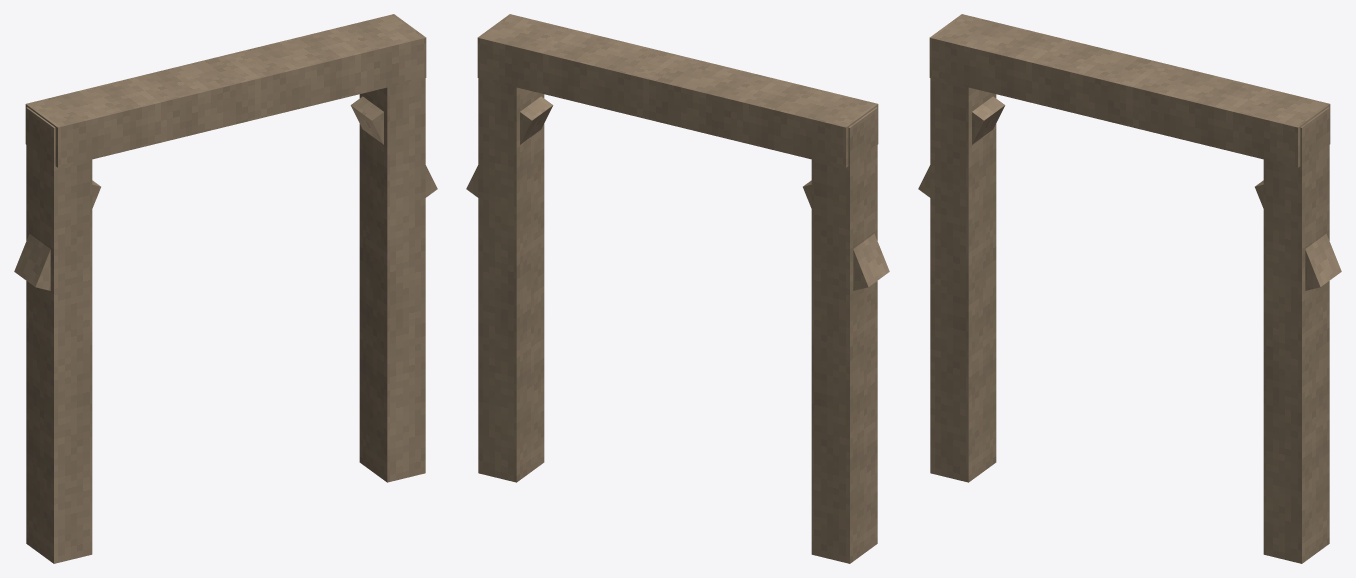
The model's file is level_blockout_mine_braced_portal.glb.
The picture shows the model from 3 angles, left to right: view 1: azimuth 30°, elevation 25°; view 2: azimuth 150°, elevation 25°; view 3: azimuth 330°, elevation 25°; orthographic projection.
Visible parts, largest first — view 1: level_blockout_mine_braced_portal; view 2: level_blockout_mine_braced_portal; view 3: level_blockout_mine_braced_portal.
Boxes of the visible parts, left/top/right/bottom form: level_blockout_mine_braced_portal: left=14, top=14, right=437, bottom=563; level_blockout_mine_braced_portal: left=466, top=14, right=889, bottom=563; level_blockout_mine_braced_portal: left=918, top=14, right=1341, bottom=563.
Size of the model in its own units: 2.51 by 2.61 by 0.35.
1 material, 1 textured.
